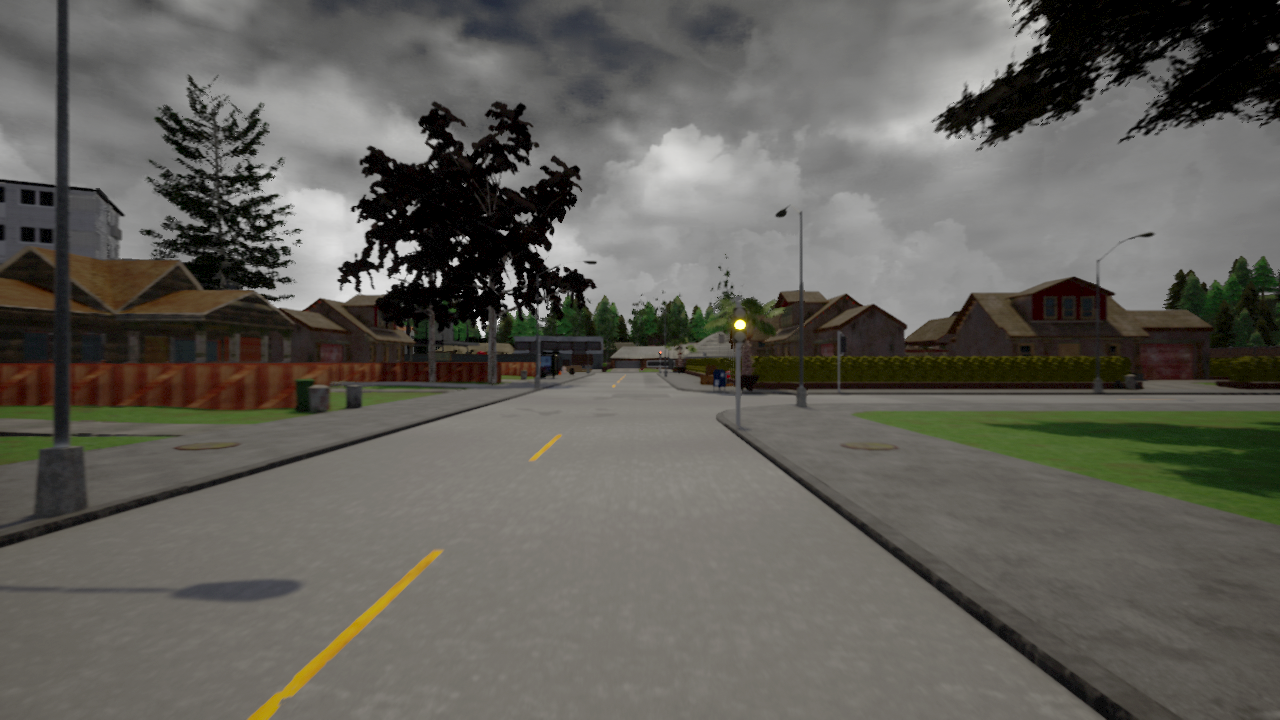yellow: (732, 306, 748, 342)
